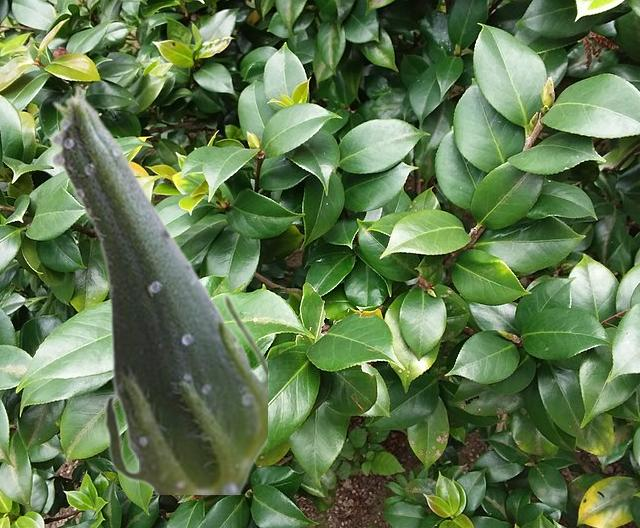okra: (48, 84, 266, 493)
